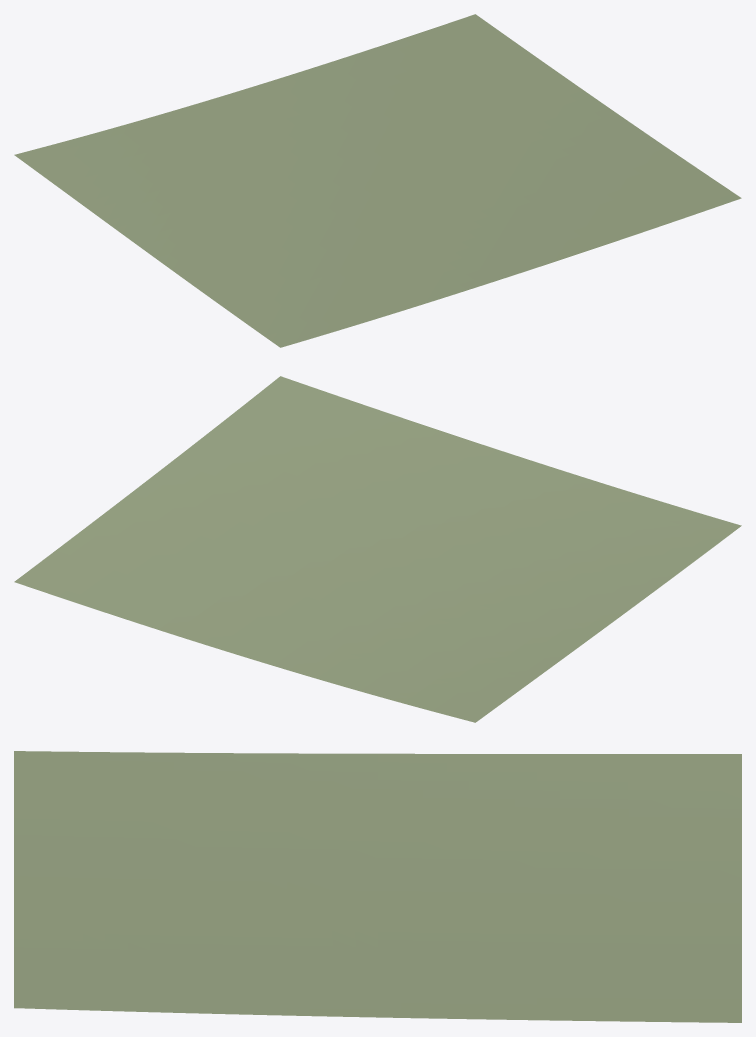
The model's file is desert-10-23.glb.
3 renders of one model, top to bottom at view 1: azimuth 30°, elevation 25°; view 2: azimuth 150°, elevation 25°; view 3: azimuth 270°, elevation 25°, orthographic. The views are drawn at different scales.
Parts seen in each view (by area): view 1: desert-10-23; view 2: desert-10-23; view 3: desert-10-23.
Part boxes in pixels (box(x1,y1,x2,y2)): desert-10-23: box(14, 14, 741, 347); desert-10-23: box(14, 376, 741, 722); desert-10-23: box(14, 751, 741, 1022).
Size of the model in its own units: 512 by 41.45 by 512.
